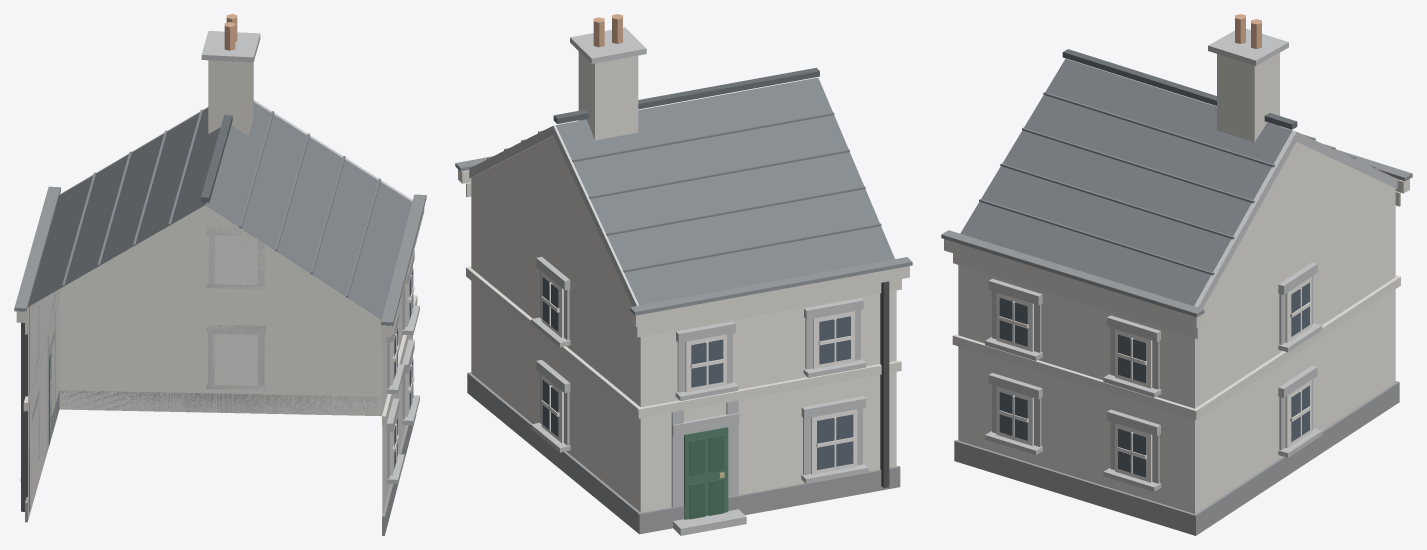
The picture shows the model from 3 angles, left to right: view 1: azimuth 30°, elevation 25°; view 2: azimuth 150°, elevation 25°; view 3: azimuth 270°, elevation 25°; orthographic projection. The views are drawn at different scales.
Parts seen in each view (by area): view 1: harl, slate, stone_band, frame, plinth, lead, slate_lt, chim_render, string, pipe, slate_dk; view 2: harl, slate, stone_band, string, plinth, frame, chim_render, slate_lt, lead, door_green_p, slate_dk, pipe (+7 smaller); view 3: harl, slate, stone_band, string, plinth, frame, chim_render, slate_lt, lead, slate_dk, window_glass_005, window_glass_004 (+5 smaller).
Part boxes in pixels (x1,y1,x2,y2): harl: (28, 205, 412, 520); slate: (28, 102, 412, 319); stone_band: (20, 31, 419, 483); frame: (38, 235, 414, 475); plinth: (25, 390, 416, 535); lead: (14, 186, 426, 325); slate_lt: (62, 109, 380, 297); chim_render: (208, 60, 253, 135); string: (16, 192, 424, 424); pipe: (21, 306, 29, 511); slate_dk: (201, 115, 232, 202); harl: (471, 136, 896, 512); slate: (555, 77, 894, 305); stone_band: (469, 27, 868, 535); string: (458, 169, 909, 418); plinth: (467, 372, 900, 534); frame: (541, 272, 857, 474); chim_render: (578, 51, 638, 140); slate_lt: (487, 112, 881, 272); lead: (455, 156, 912, 315); door_green_p: (689, 435, 724, 519); slate_dk: (553, 67, 819, 123); pipe: (880, 281, 889, 488); harl: (958, 142, 1395, 513); slate: (960, 58, 1292, 305); stone_band: (985, 28, 1397, 491); string: (944, 179, 1409, 419); plinth: (954, 381, 1399, 535); frame: (996, 277, 1311, 482); chim_render: (1217, 53, 1279, 142); slate_lt: (979, 92, 1375, 275); lead: (941, 149, 1412, 317); slate_dk: (1062, 49, 1297, 129); window_glass_005: (999, 298, 1027, 346); window_glass_004: (999, 392, 1027, 440).
Bounding box in the file's own units: 10.38 × 9.71 × 9.54.
